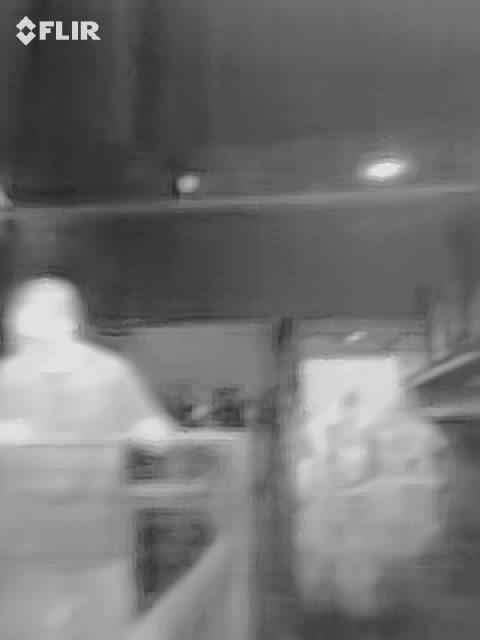head: (7, 276, 81, 351)
